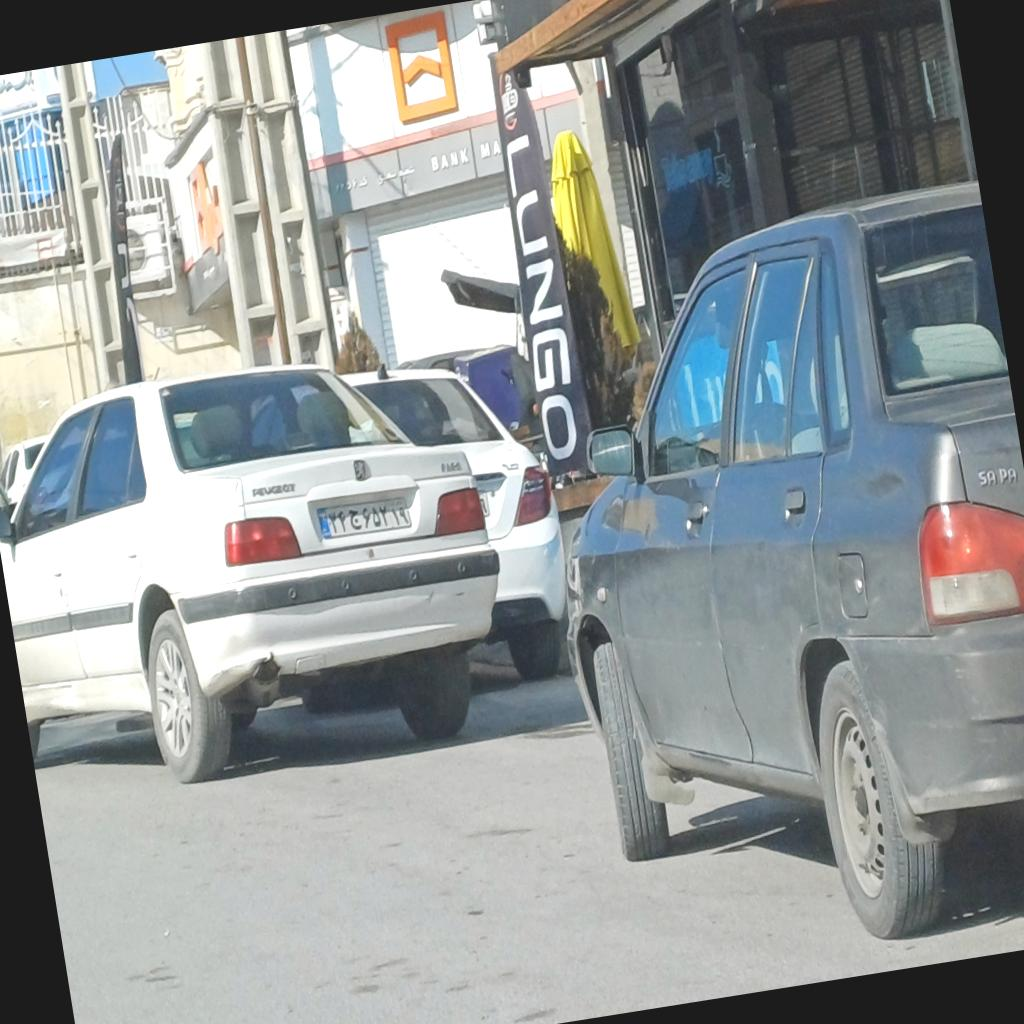Plates: (316, 496, 410, 539)
